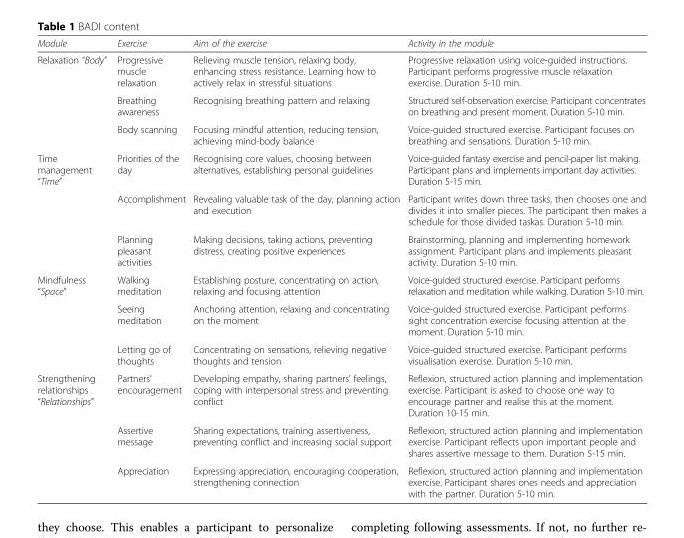table: (36, 37, 645, 498)
table column: (403, 37, 645, 498), (188, 37, 403, 498), (110, 37, 188, 498), (36, 37, 110, 498)
table column header: (36, 37, 645, 51)
table row: (36, 369, 645, 420), (36, 189, 645, 230), (36, 299, 645, 340), (36, 420, 645, 461), (36, 51, 645, 91), (36, 149, 645, 189), (36, 230, 645, 270), (36, 461, 645, 498), (36, 91, 645, 120), (36, 120, 645, 149), (36, 270, 645, 299), (36, 340, 645, 369), (36, 37, 645, 51)
table spanning cell: (36, 369, 110, 498), (36, 149, 110, 270), (36, 270, 110, 369), (36, 51, 110, 149)
